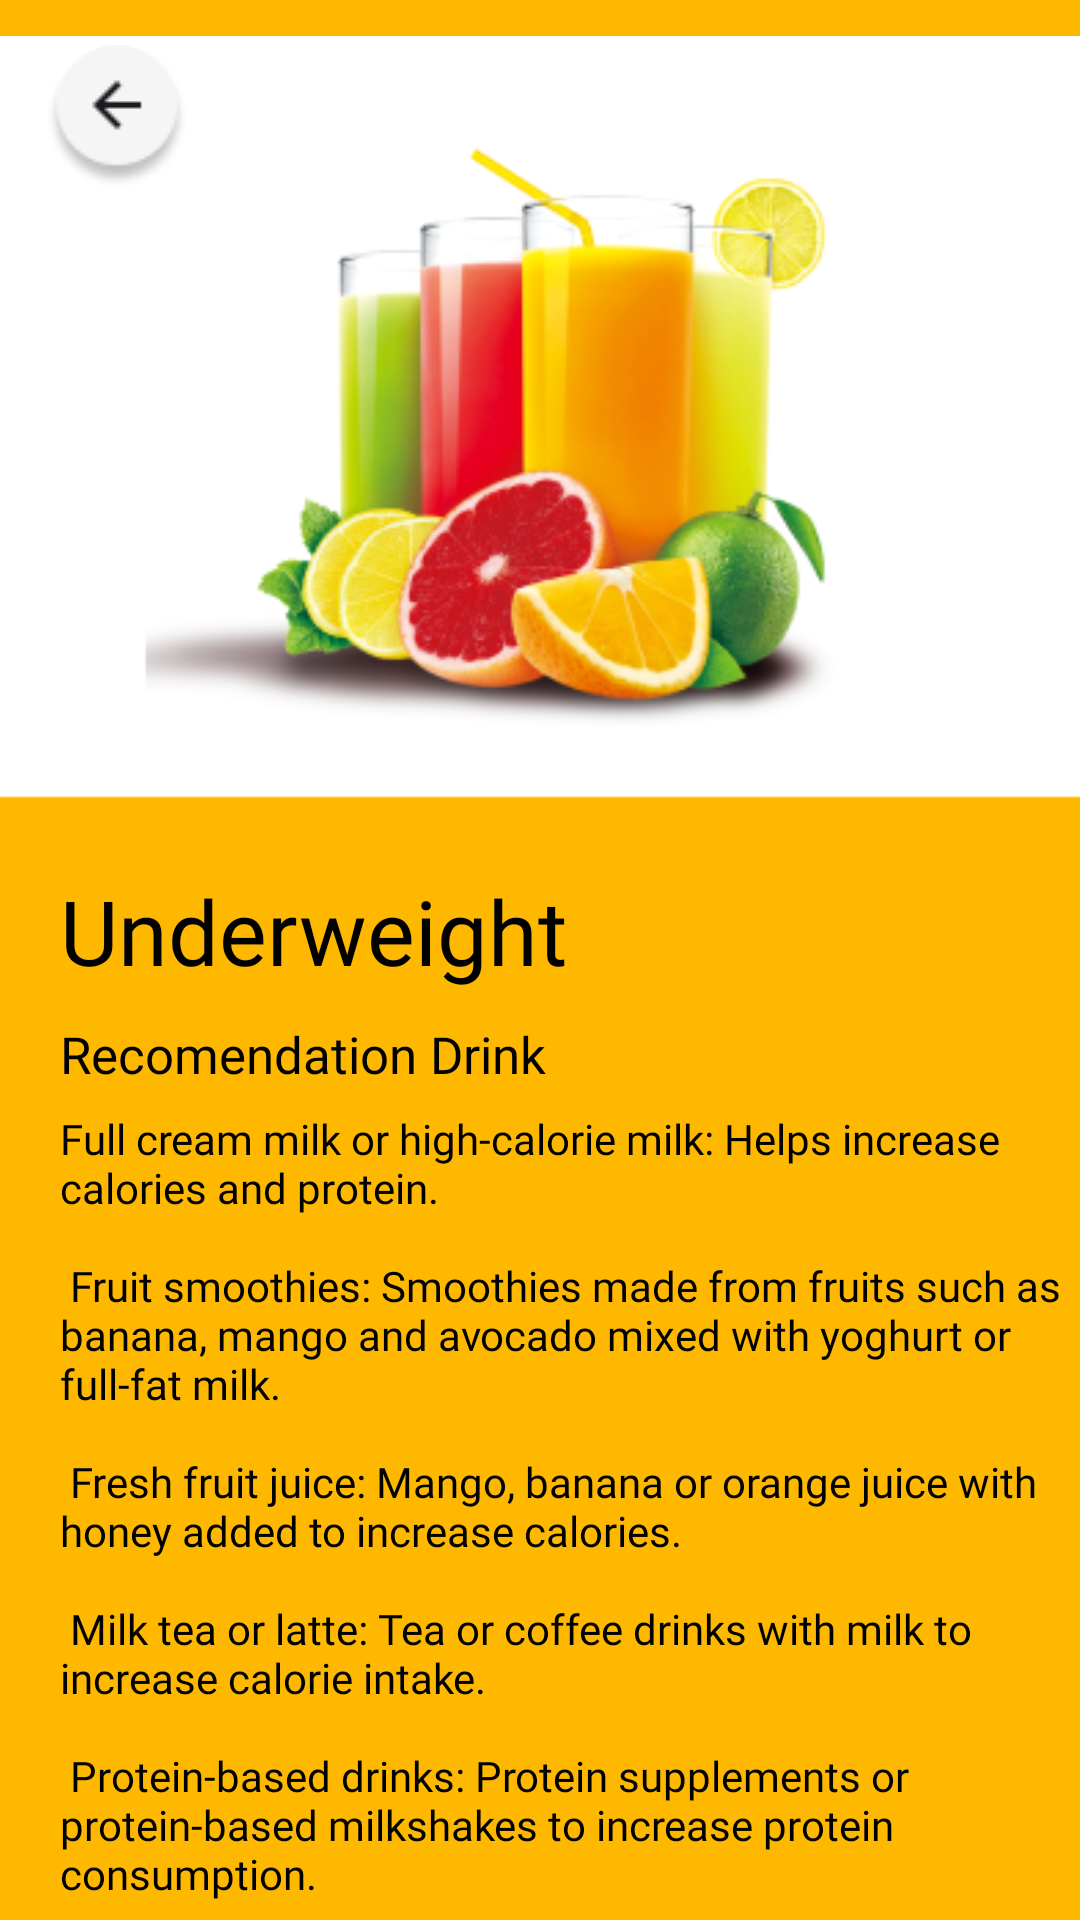

Named icons in this screenshot (1080w x 1920h) and their centers, [x,y]:
back: [117,114]
